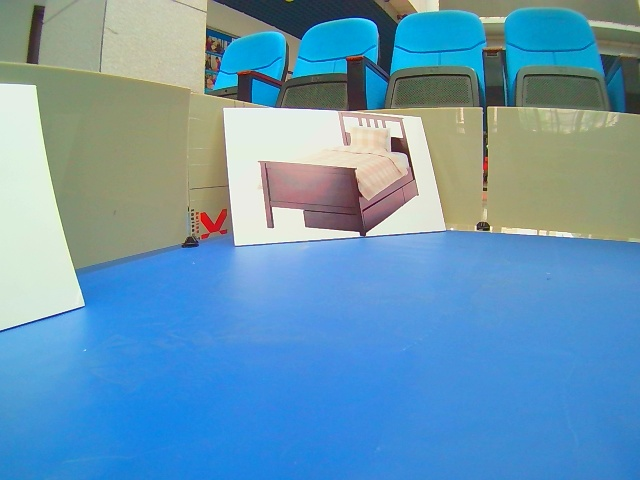bed: (222, 109, 449, 250)
